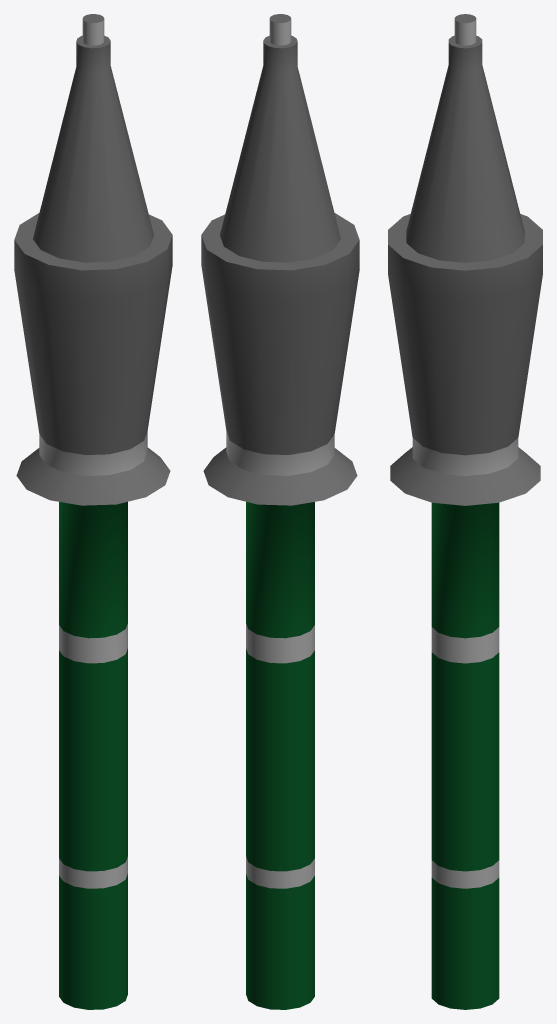
Rendered from RPGAmmo.fbx.
3 views of the same model, side by side, from view 1: azimuth 30°, elevation 25°; view 2: azimuth 150°, elevation 25°; view 3: azimuth 270°, elevation 25° (orthographic).
Visible parts, largest first — view 1: RPGAmmo; view 2: RPGAmmo; view 3: RPGAmmo.
Boxes of the visible parts, x1,y1,x2,y2 form: RPGAmmo: [14, 14, 172, 1009]; RPGAmmo: [201, 14, 359, 1009]; RPGAmmo: [388, 14, 542, 1009].
Bounding box in the file's own units: 1.72 × 11.65 × 1.67.
